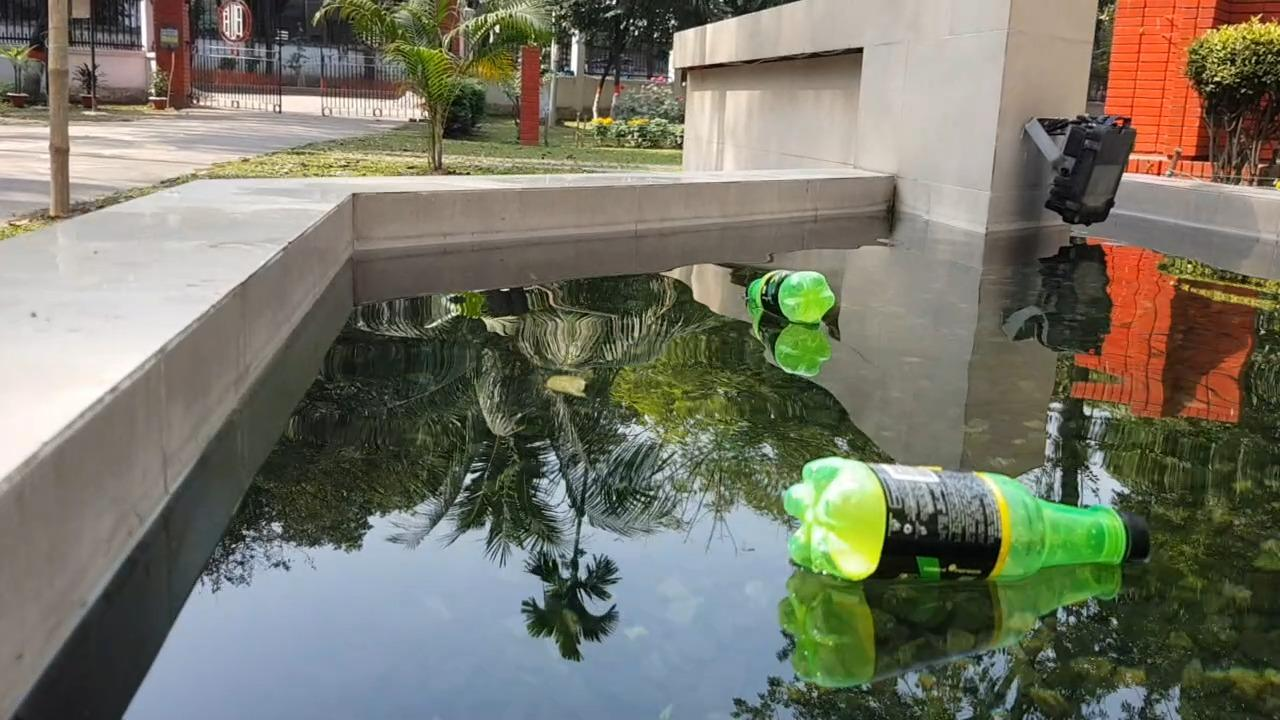trash_plastic: (786, 456, 1150, 591), (745, 267, 838, 324)
